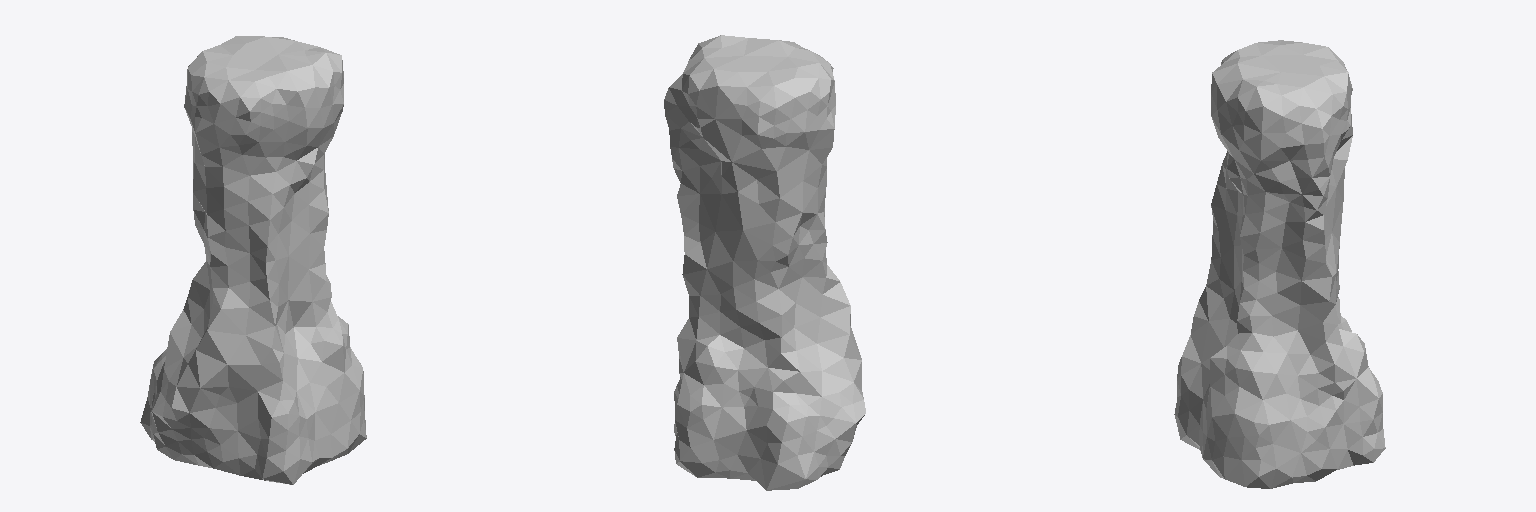
File: rock-A.obj
The picture shows the model from 3 angles: view 1: azimuth 30°, elevation 25°; view 2: azimuth 150°, elevation 25°; view 3: azimuth 270°, elevation 25°; orthographic projection.
Parts seen in each view (by area): view 1: rock-A; view 2: rock-A; view 3: rock-A.
Boxes of the visible parts, x1=… form: rock-A: x1=140, y1=36, x2=366, y2=484; rock-A: x1=664, y1=35, x2=865, y2=490; rock-A: x1=1174, y1=40, x2=1385, y2=488.
Size of the model in its own units: 11.21 by 22.06 by 10.67.